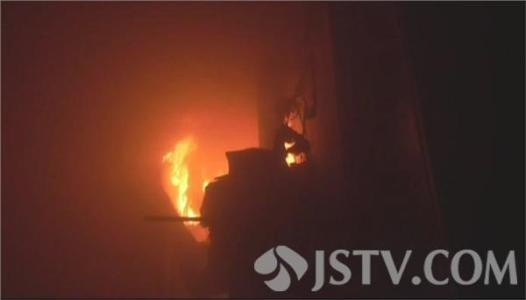fire: (161, 136, 205, 223), (277, 104, 310, 170)
